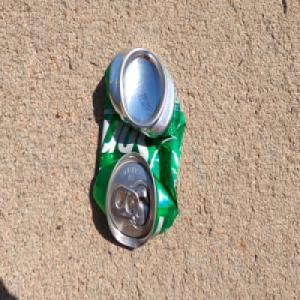SodaCan: (91, 43, 187, 250)
